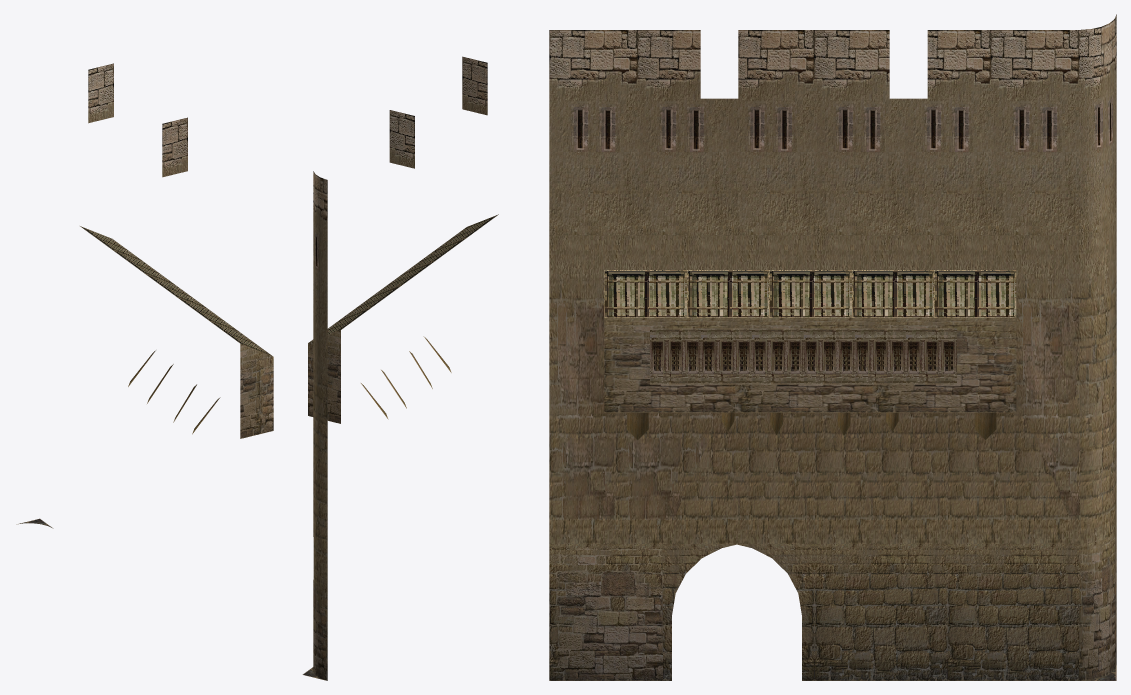
The model's file is M7Z1_CityWall1A2_B.glb.
3 renders of one model, left to right at view 1: azimuth 30°, elevation 25°; view 2: azimuth 150°, elevation 25°; view 3: azimuth 270°, elevation 25°, orthographic. The views are drawn at different scales.
Visible parts, largest first — view 1: M7Z1_CITYWALL1A2_B; view 2: M7Z1_CITYWALL1A2_B; view 3: M7Z1_CITYWALL1A2_B.
Part boxes in pixels (x1=…): M7Z1_CITYWALL1A2_B: x1=16, y1=63, x2=273, y2=528; M7Z1_CITYWALL1A2_B: x1=302, y1=56, x2=498, y2=680; M7Z1_CITYWALL1A2_B: x1=549, y1=14, x2=1116, y2=680.
Bounding box in the file's own units: 2.3 × 19 × 15.
Materials: 9 (9 with a texture image).
